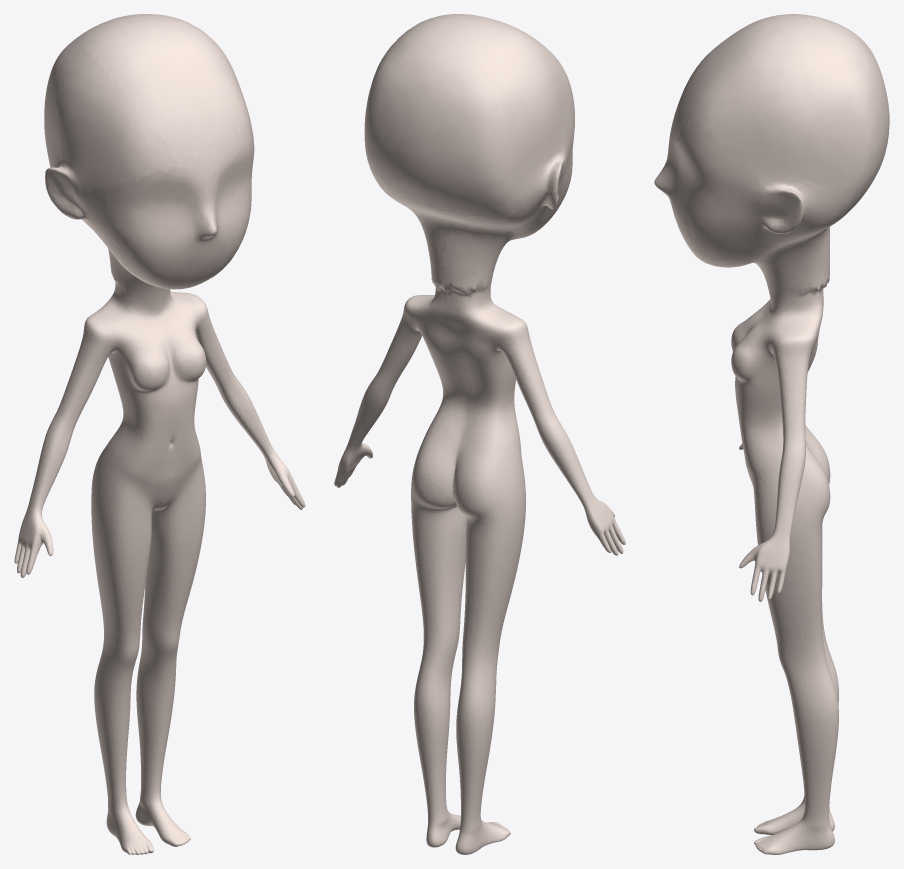
The model's file is char_yeoja_base_v17.glb.
The picture shows the model from 3 angles, left to right: view 1: azimuth 30°, elevation 25°; view 2: azimuth 150°, elevation 25°; view 3: azimuth 270°, elevation 25°; orthographic projection.
Bounding box in the file's own units: 0.8516 × 2.35 × 0.6141.
1 material, 1 textured.
